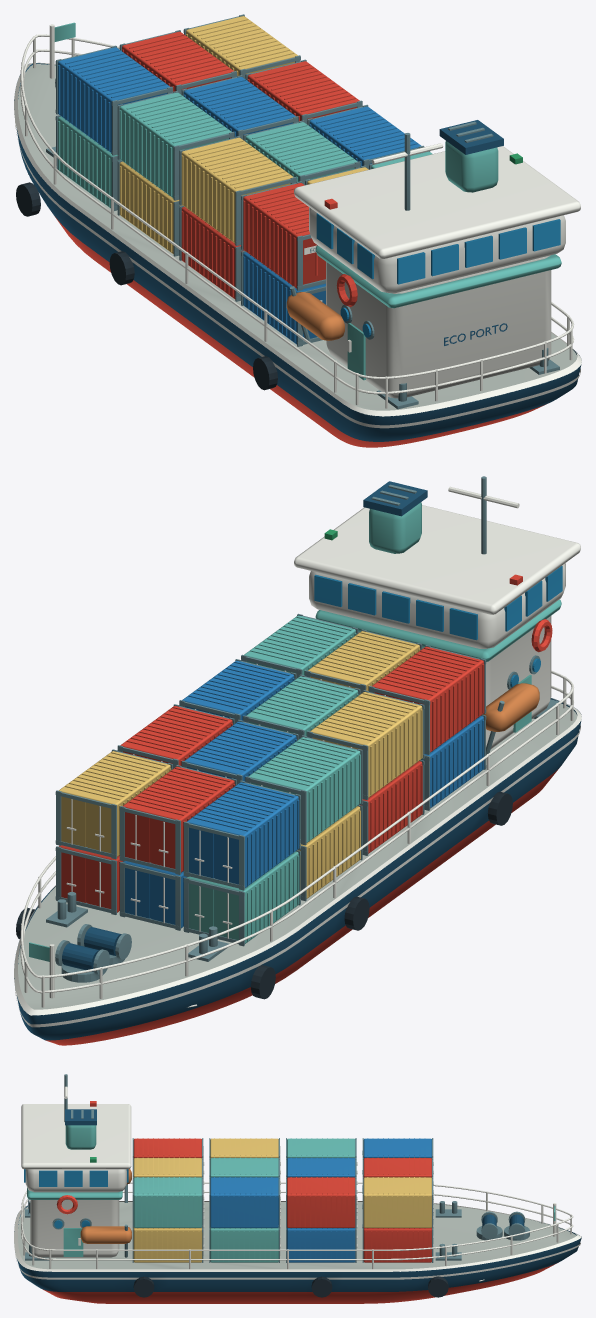
The model's file is cargo-ship.glb.
3 renders of one model, top to bottom at view 1: azimuth 30°, elevation 25°; view 2: azimuth 150°, elevation 25°; view 3: azimuth 270°, elevation 25°, orthographic. The views are drawn at different scales.
Parts seen in each view (by area): view 1: white sheer stripe, curved lower hull, corrugated wall.007, corrugated wall.001, continuous navy hull, corrugated wall.005, sealed working deck, end frame.001, bridge front glazing, rubber fender, covered rescue boat; view 2: white sheer stripe, curved lower hull, corrugated wall.007, corrugated wall.001, corrugated wall.005, end frame.001, sealed working deck, continuous navy hull, bridge front glazing, rubber fender, covered rescue boat; view 3: white sheer stripe, curved lower hull, corrugated wall.007, continuous navy hull, sealed working deck, corrugated wall.005, corrugated wall.001, end frame.001, bridge front glazing, rubber fender, covered rescue boat.
Boxes of the visible parts, x1,y1,x2,y2 form: white sheer stripe: (14, 24, 581, 428); curved lower hull: (54, 31, 546, 447); corrugated wall.007: (54, 22, 561, 380); corrugated wall.001: (58, 47, 421, 344); continuous navy hull: (14, 63, 581, 441); corrugated wall.005: (119, 16, 368, 253); sealed working deck: (18, 64, 577, 410); end frame.001: (46, 14, 559, 409); bridge front glazing: (316, 213, 560, 337); rubber fender: (16, 182, 277, 390); covered rescue boat: (286, 292, 344, 340); white sheer stripe: (14, 486, 581, 1027); curved lower hull: (45, 574, 558, 1045); corrugated wall.007: (29, 502, 561, 961); corrugated wall.001: (123, 660, 484, 928); corrugated wall.005: (59, 631, 422, 898); end frame.001: (46, 476, 559, 982); sealed working deck: (18, 703, 577, 1009); continuous navy hull: (14, 481, 581, 1040); bridge front glazing: (314, 566, 562, 687); rubber fender: (16, 791, 512, 999); covered rescue boat: (483, 683, 539, 731); white sheer stripe: (14, 1086, 581, 1281); curved lower hull: (42, 1101, 558, 1303); corrugated wall.007: (27, 1125, 555, 1262); continuous navy hull: (14, 1109, 581, 1291); sealed working deck: (18, 1202, 576, 1269); corrugated wall.005: (133, 1138, 431, 1262); corrugated wall.001: (210, 1138, 431, 1262); end frame.001: (25, 1074, 529, 1262); bridge front glazing: (24, 1169, 128, 1228); rubber fender: (133, 1276, 448, 1297); covered rescue boat: (80, 1169, 131, 1243).
Size of the model in its own units: 2.55 by 3.08 by 8.3.
